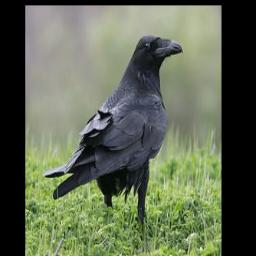Crow: (43, 34, 182, 235)
